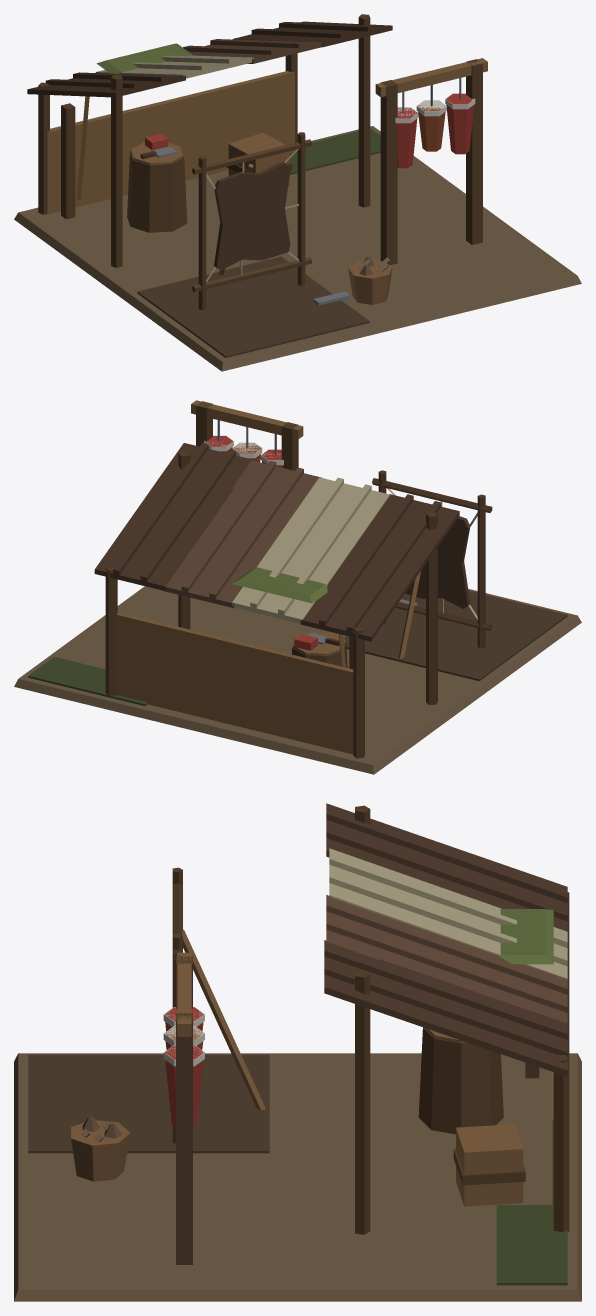
Rendered from hunting_lodge_l1.glb.
The picture shows the model from 3 angles, top to bottom: view 1: azimuth 30°, elevation 25°; view 2: azimuth 150°, elevation 25°; view 3: azimuth 270°, elevation 25°; orthographic projection. The views are drawn at different scales.
Parts seen in each view (by area): view 1: hunting_lodge_l1_mesh; view 2: hunting_lodge_l1_mesh; view 3: hunting_lodge_l1_mesh.
Part boxes in pixels (<box>): hunting_lodge_l1_mesh: <box>14,14,581,371</box>; hunting_lodge_l1_mesh: <box>14,400,581,774</box>; hunting_lodge_l1_mesh: <box>14,803,581,1301</box>.
Size of the model in its own units: 4 by 2.1 by 4.
